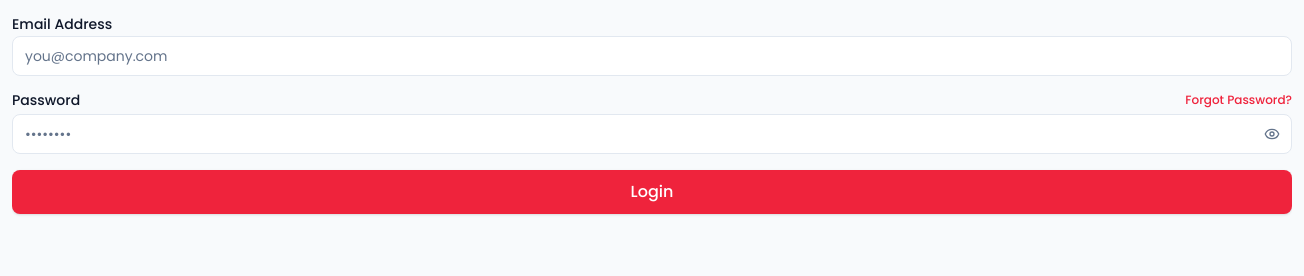
LoginForm › validates required fields and shows field errors
This screenshot has width=1304, height=276.
Click the button "Login" at coordinates (652, 192), box [12,170,1292,214]
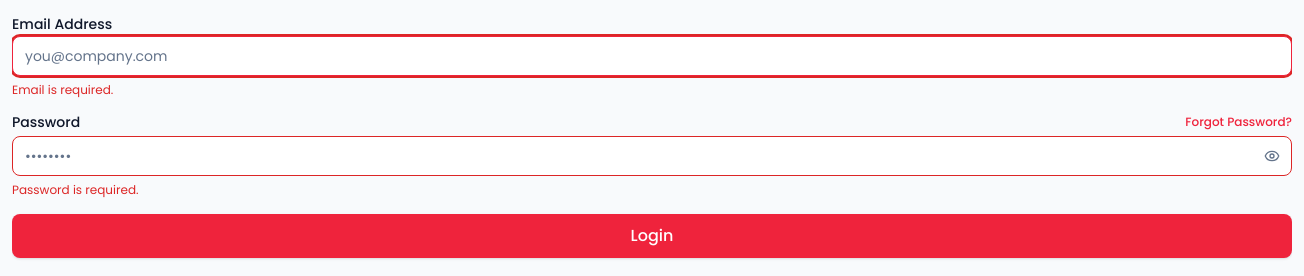
Expected: the text "Email is required." is shown, [12,81,113,98]
